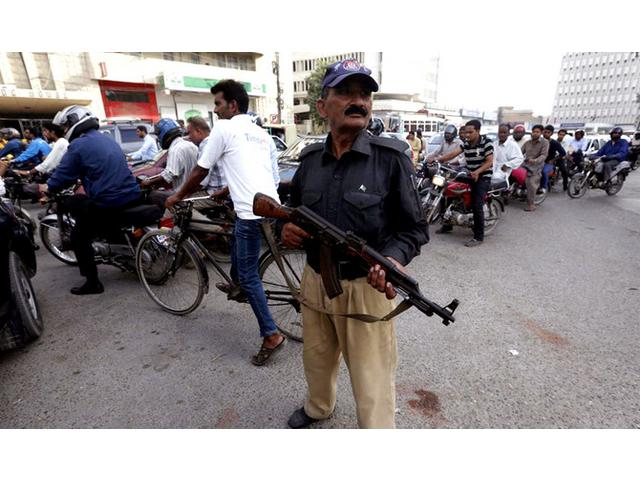rifle: (239, 189, 463, 331)
